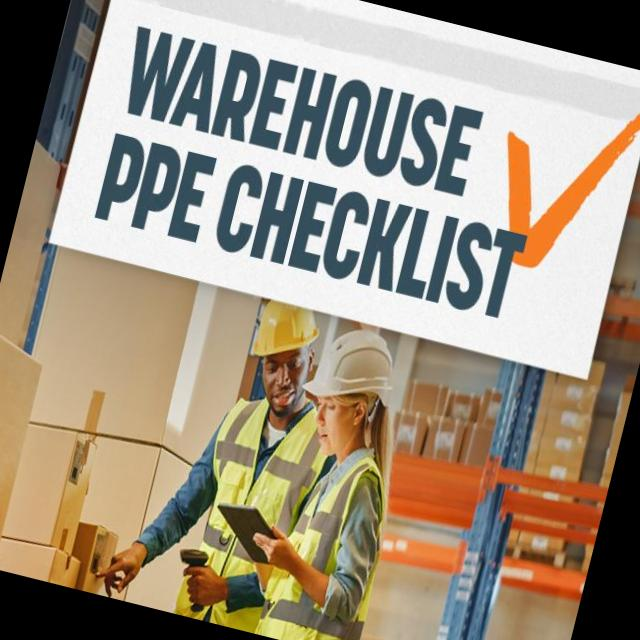Helmet: (300, 321, 411, 421), (234, 294, 325, 364)
Vest: (169, 372, 319, 634), (253, 422, 424, 640)
